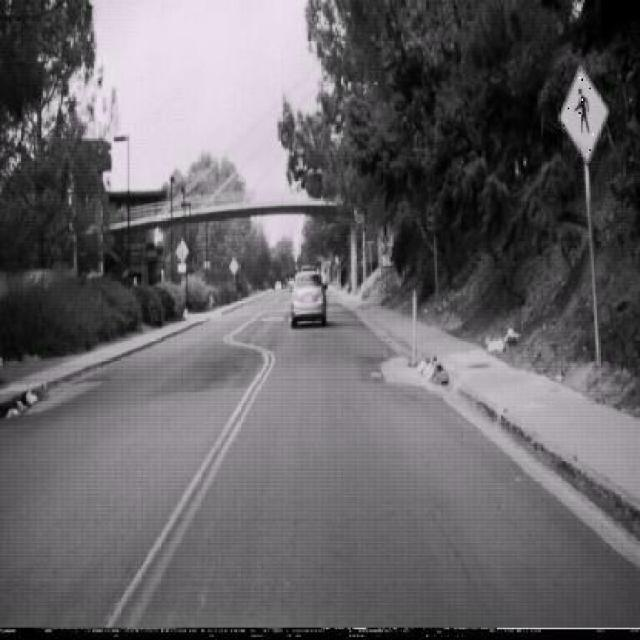pedestrianCrossing: (558, 63, 609, 163)
